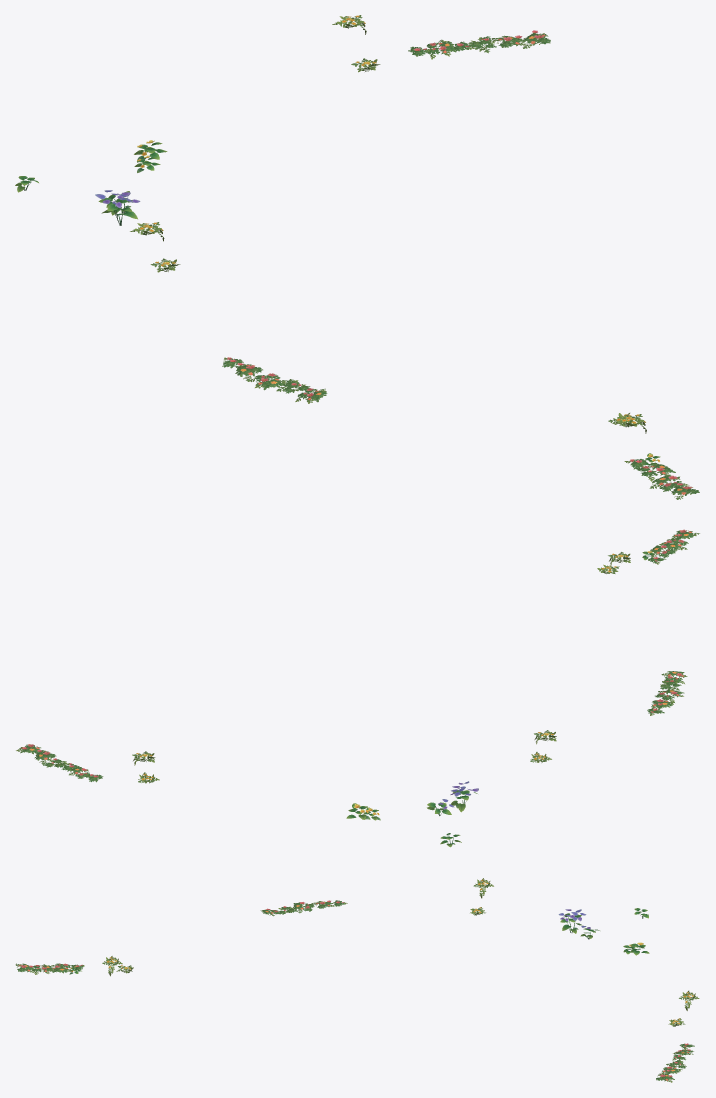
File: pref_sm_garden_plan_vertexcolor_04_lv2.fbx
3 renders of one model, top to bottom at view 1: azimuth 30°, elevation 25°; view 2: azimuth 150°, elevation 25°; view 3: azimuth 270°, elevation 25°, orthographic. The views are drawn at different scales.
Parts seen in each view (by area): view 1: pref_sm_garden_plan_vertexcolor_04_lv2; view 2: pref_sm_garden_plan_vertexcolor_04_lv2; view 3: pref_sm_garden_plan_vertexcolor_04_lv2.
Part boxes in pixels (x1,y1,x2,y2): pref_sm_garden_plan_vertexcolor_04_lv2: (15, 15, 699, 499); pref_sm_garden_plan_vertexcolor_04_lv2: (16, 529, 699, 847); pref_sm_garden_plan_vertexcolor_04_lv2: (15, 878, 699, 1082).
Bounding box in the file's own units: 28.99 × 3.12 × 45.9.
